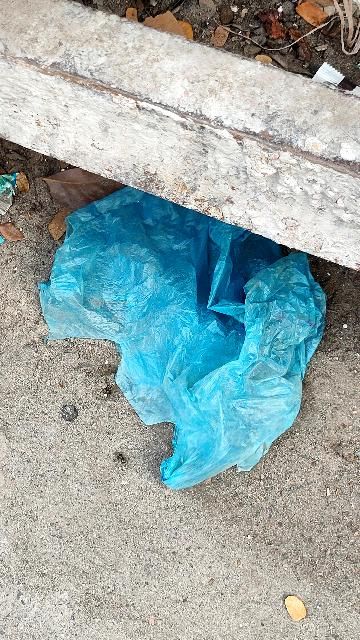polythene: (0, 127, 353, 509)
